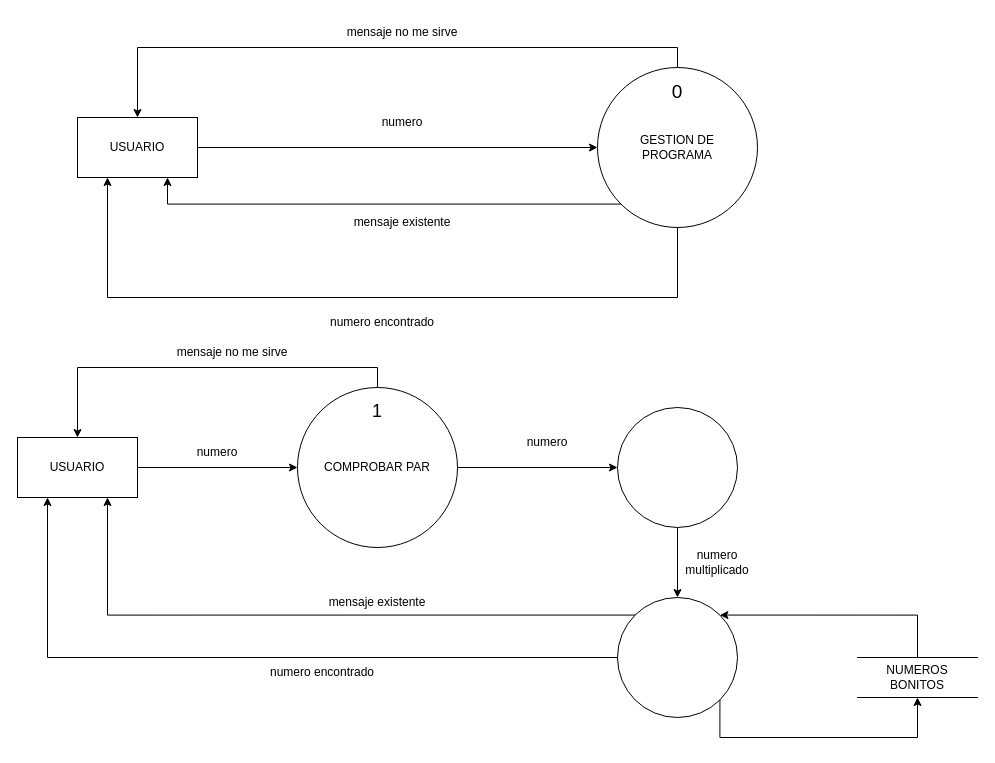
The diagram is 995 pixels wide and 763 high, and some of its shapes have lost their labels. Each missing label, with the centre of its shape:
"COMPROBAR EXISTENTE" goes at (677,657).
"MULTIPLICAR POR 10" goes at (677,467).
